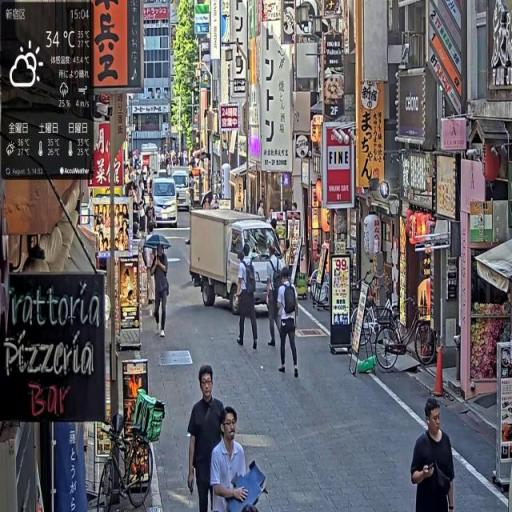person: (188, 364, 228, 512), (410, 397, 457, 512), (209, 406, 251, 511), (236, 244, 261, 352), (277, 265, 300, 380), (267, 244, 286, 352), (152, 243, 171, 338)
